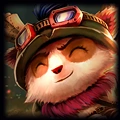Teemo: (3, 5, 117, 116)
